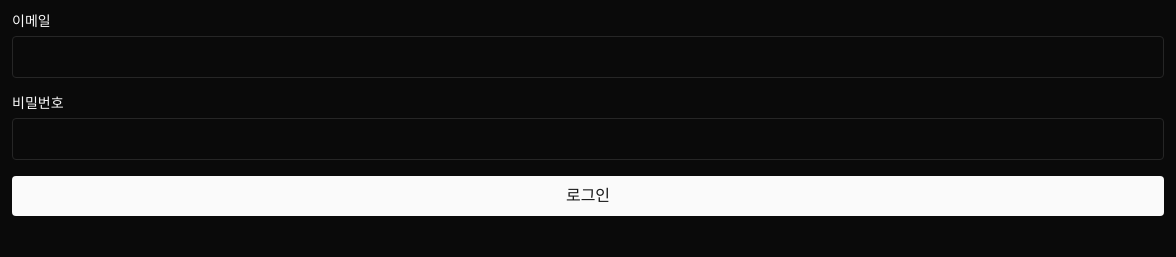
Test: LoginForm 검증 › invalid email format → 이메일 형식 에러
The width and height of the screenshot is (1176, 257).
Type "not-an-email" into the field labelled "이메일".
click(588, 57); type("not-an-email")  # box [12,36,1164,78]
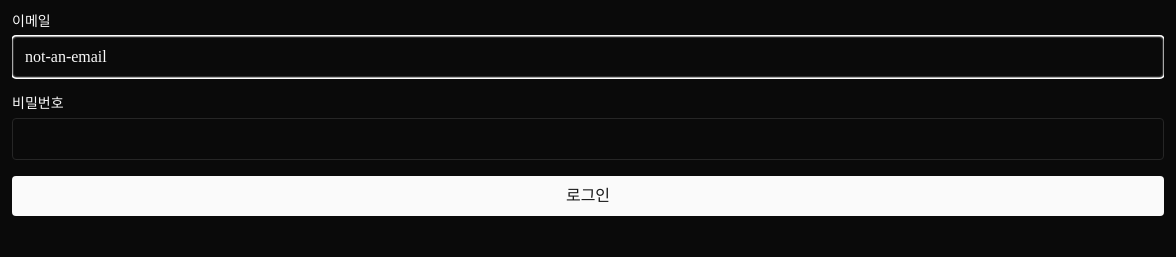
Type "ValidPass!1" into the password field labelled "비밀번호".
click(588, 139); type("ValidPass!1")  # box [12,118,1164,160]
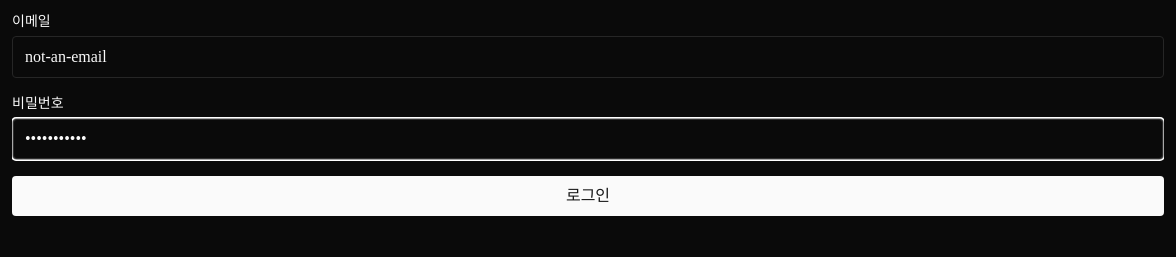
Click the button "로그인".
click(588, 196)  # box [12,176,1164,216]
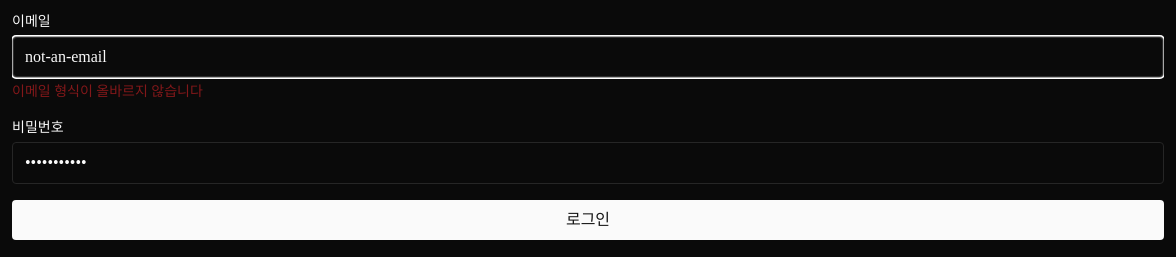
Now the text "이메일 형식이 올바르지 않습니다" is shown, box [12,84,203,99]
